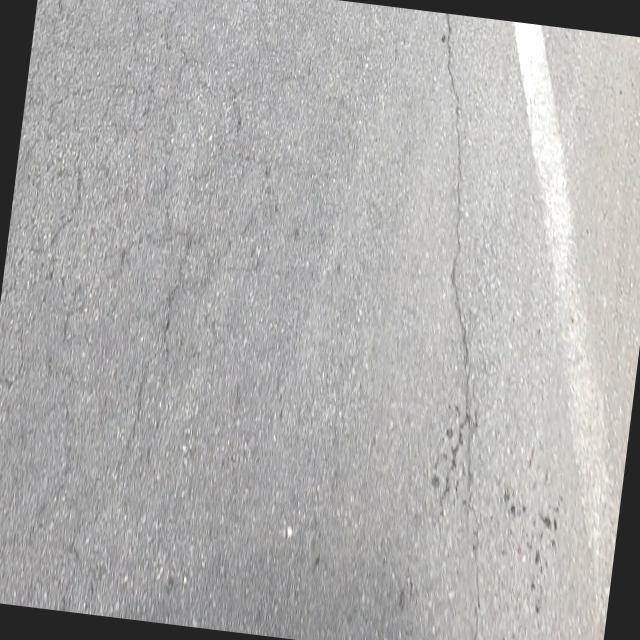Retak-Memanjang: (440, 12, 472, 475)
